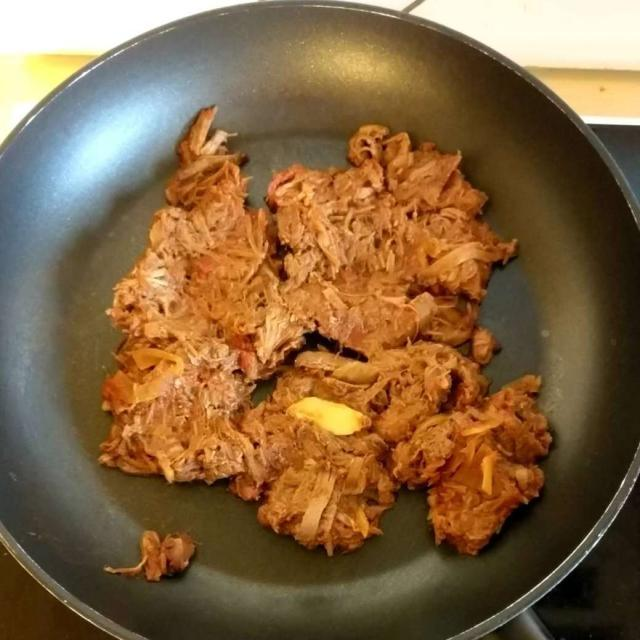beef: (108, 124, 539, 542)
